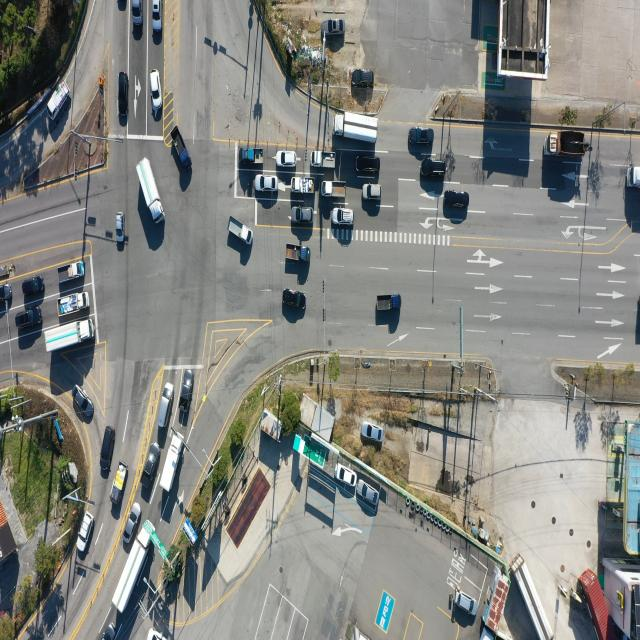car: (99, 424, 114, 478), (124, 502, 143, 544), (159, 382, 174, 428), (73, 382, 93, 416), (180, 368, 194, 416), (78, 514, 95, 553), (144, 442, 159, 482), (14, 308, 40, 329), (455, 590, 475, 617), (445, 188, 471, 208), (357, 482, 378, 506), (409, 128, 434, 148), (149, 70, 161, 111), (23, 275, 46, 296), (422, 159, 446, 179), (356, 154, 381, 173), (118, 70, 128, 116), (282, 289, 306, 308), (337, 466, 357, 488), (351, 68, 373, 87), (363, 423, 384, 442), (334, 208, 356, 226), (255, 175, 277, 192), (324, 19, 344, 37), (276, 150, 296, 167), (294, 207, 314, 224), (364, 183, 383, 200), (115, 213, 124, 246), (100, 623, 117, 640), (151, 0, 160, 31), (133, 0, 143, 26), (0, 283, 13, 302)
medium_truck: (114, 520, 156, 614), (518, 555, 556, 638), (45, 318, 96, 356), (137, 159, 164, 225), (158, 433, 184, 495), (334, 112, 380, 144), (544, 134, 590, 159), (626, 165, 640, 190)
small_truck: (48, 82, 72, 119), (59, 289, 90, 315), (171, 127, 190, 169), (226, 216, 251, 246), (111, 464, 127, 504), (56, 262, 85, 284), (321, 180, 347, 200), (285, 243, 310, 263), (311, 151, 336, 171), (239, 146, 264, 164), (377, 295, 402, 313), (291, 176, 314, 194)
